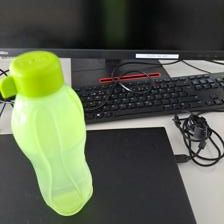bottle: (0, 49, 94, 216)
